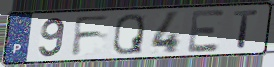4: (149, 10, 183, 55)
9: (38, 17, 66, 58)
E: (186, 8, 227, 54)
F: (70, 14, 112, 58)
Q: (111, 13, 146, 56)
T: (232, 9, 260, 50)
